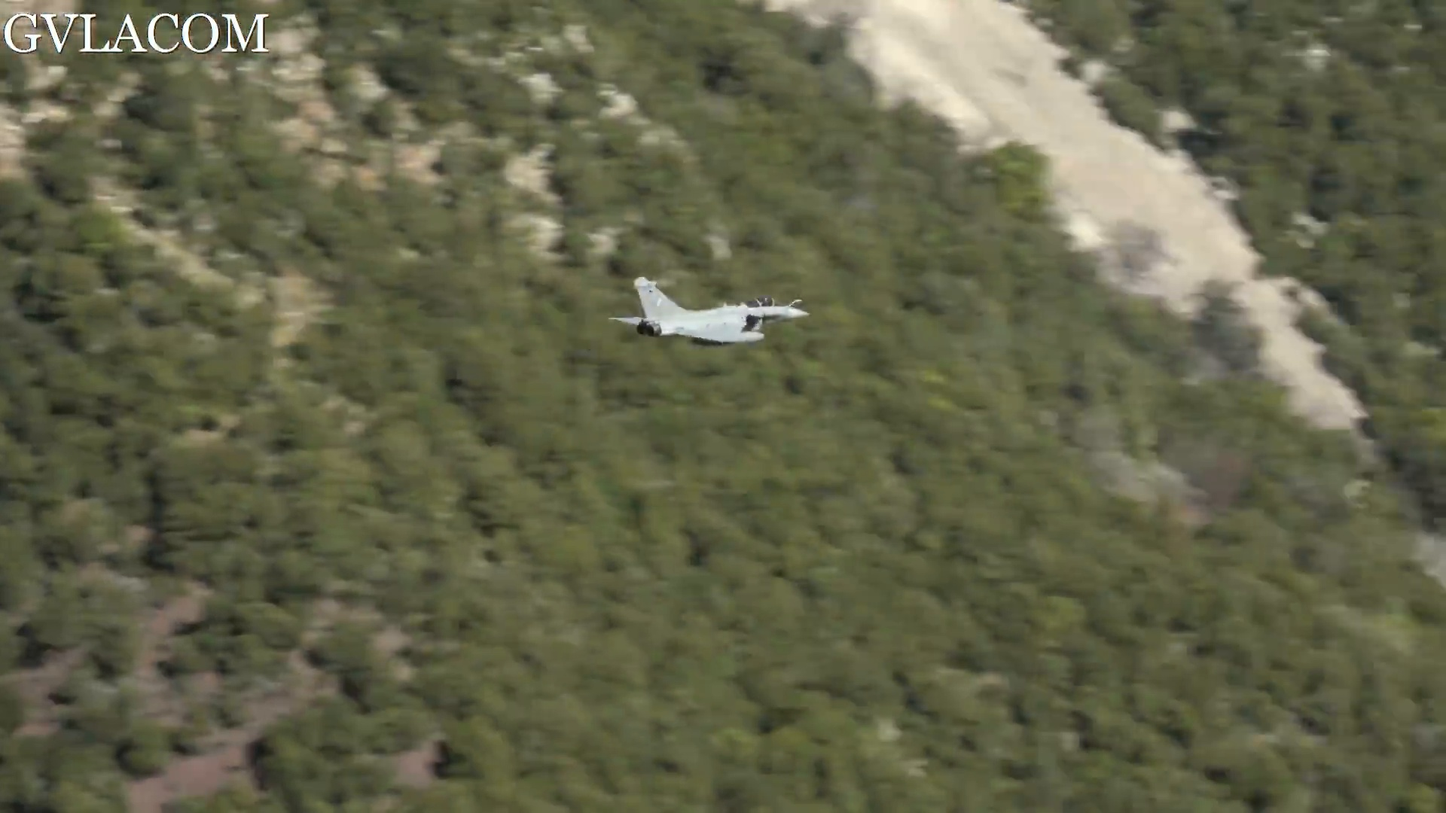Rafale: (608, 270, 816, 348)
